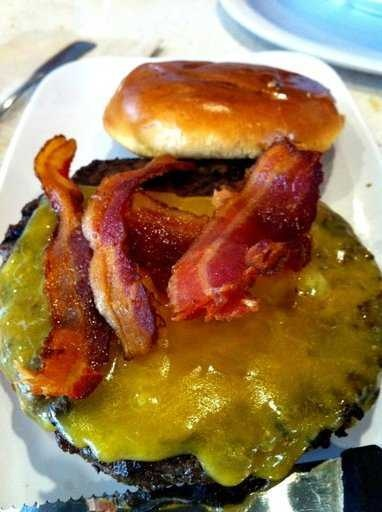hamburger: (31, 67, 324, 484)
